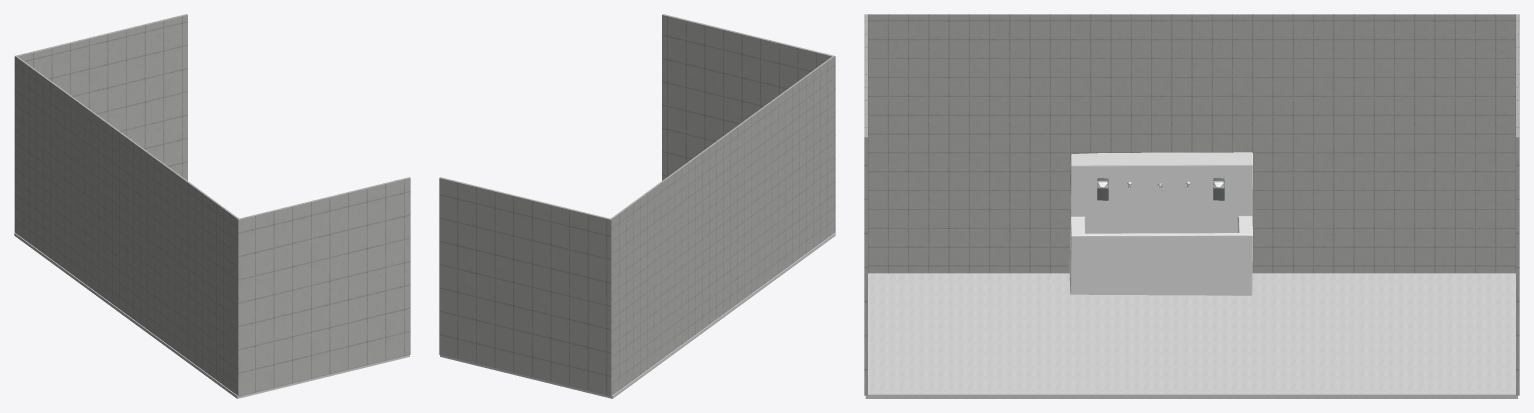
Rendered from HandWashingRoom.glb.
The picture shows the model from 3 angles, left to right: view 1: azimuth 30°, elevation 25°; view 2: azimuth 150°, elevation 25°; view 3: azimuth 270°, elevation 25°; orthographic projection. The views are drawn at different scales.
Visible parts, largest first — view 1: Cube.004, Cube.005, Cube.006, Cube; view 2: Cube.004, Cube.006, Cube.005, Cube; view 3: Cube.004, Cube, Cylinder.001, Cube.005, Cube.006.
Part boxes in pixels (box(x1,y1,x2,y2)): Cube.004: box(15, 56, 238, 394); Cube.005: box(237, 177, 410, 396); Cube.006: box(14, 14, 187, 232); Cube: box(14, 233, 409, 398); Cube.004: box(611, 56, 834, 394); Cube.006: box(439, 177, 612, 396); Cube.005: box(662, 14, 835, 232); Cube: box(440, 232, 835, 398); Cube.004: box(868, 14, 1515, 273); Cube: box(865, 273, 1517, 398); Cylinder.001: box(1069, 152, 1252, 295); Cube.005: box(864, 14, 867, 395); Cube.006: box(1516, 14, 1519, 395).
Size of the model in its own units: 30.79 by 30.53 by 69.08.
7 materials, 3 textured.
